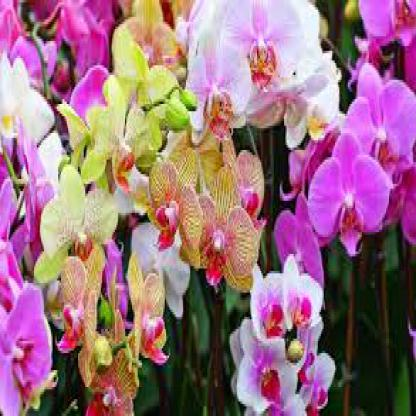ANGGREK: (7, 16, 407, 391)
